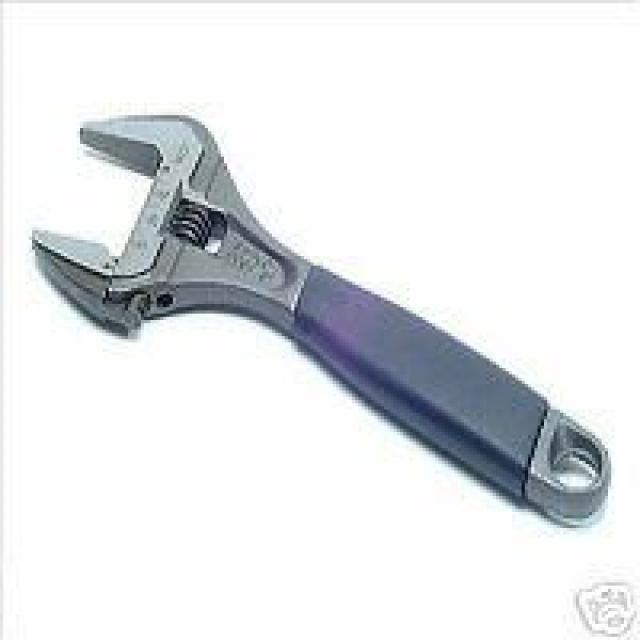wrench: (21, 106, 620, 540)
